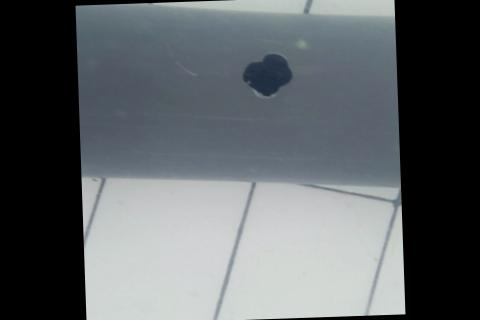kebocoran: (236, 51, 297, 100)
